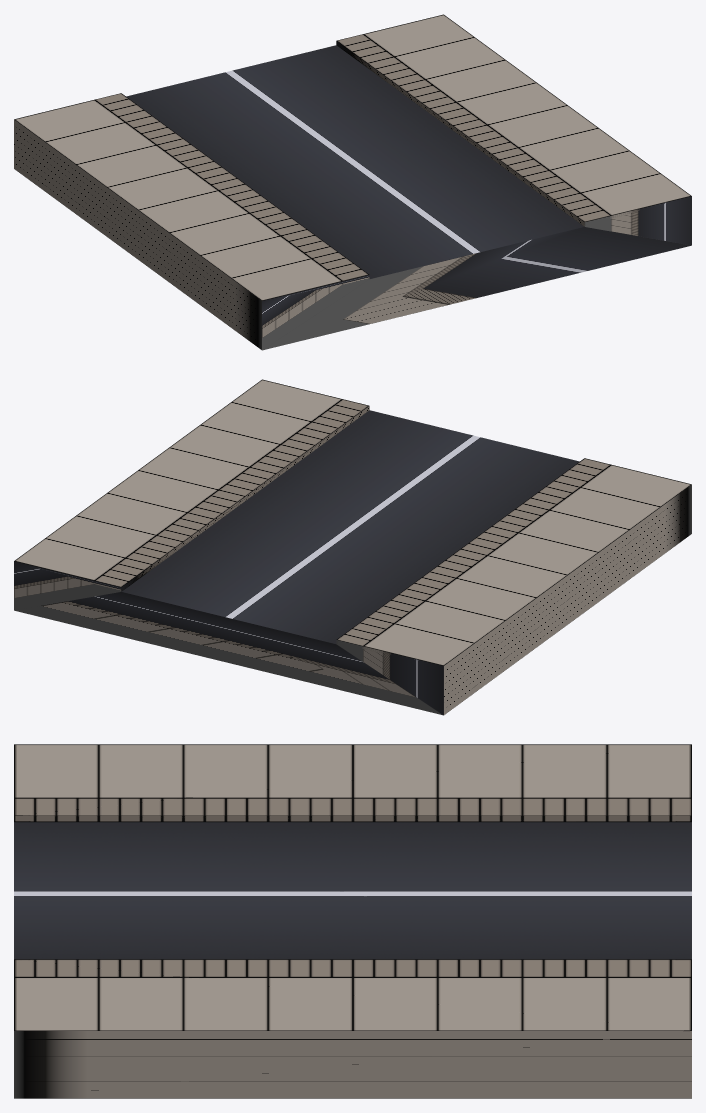
Rendered from CityRoadStraight.fbx.
3 views of the same model, one above another, from view 1: azimuth 30°, elevation 25°; view 2: azimuth 150°, elevation 25°; view 3: azimuth 270°, elevation 25° (orthographic). The views are drawn at different scales.
Parts seen in each view (by area): view 1: CityRoadStraight; view 2: CityRoadStraight; view 3: CityRoadStraight.
Boxes of the visible parts, x1=… form: CityRoadStraight: x1=14, y1=14, x2=691, y2=350; CityRoadStraight: x1=14, y1=379, x2=691, y2=715; CityRoadStraight: x1=14, y1=744, x2=691, y2=1098.
Bounding box in the file's own units: 1600 × 176 × 1600.
